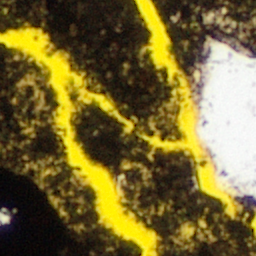cement_matrix: (0, 0, 255, 255), (0, 44, 139, 255), (152, 0, 255, 102), (206, 13, 229, 27), (180, 224, 195, 239), (122, 119, 134, 131)
cracks: (0, 27, 158, 255), (134, 0, 239, 215), (250, 213, 255, 235)
gravel_crushed_stones: (195, 44, 255, 196), (207, 14, 228, 26), (181, 225, 194, 238), (123, 120, 133, 130), (0, 212, 7, 223)
